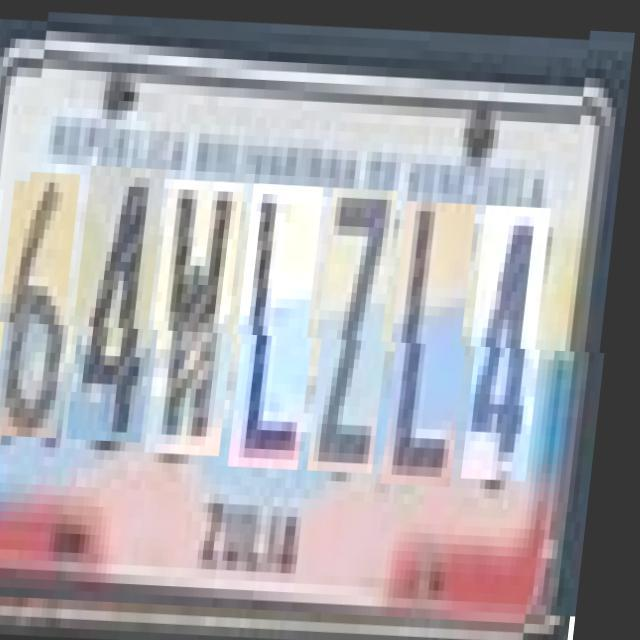4: (76, 164, 175, 440), (472, 200, 560, 476)
6: (1, 171, 90, 437)
L: (238, 180, 332, 466), (392, 196, 486, 482)
W: (154, 178, 252, 454)
Z: (318, 184, 407, 469)
